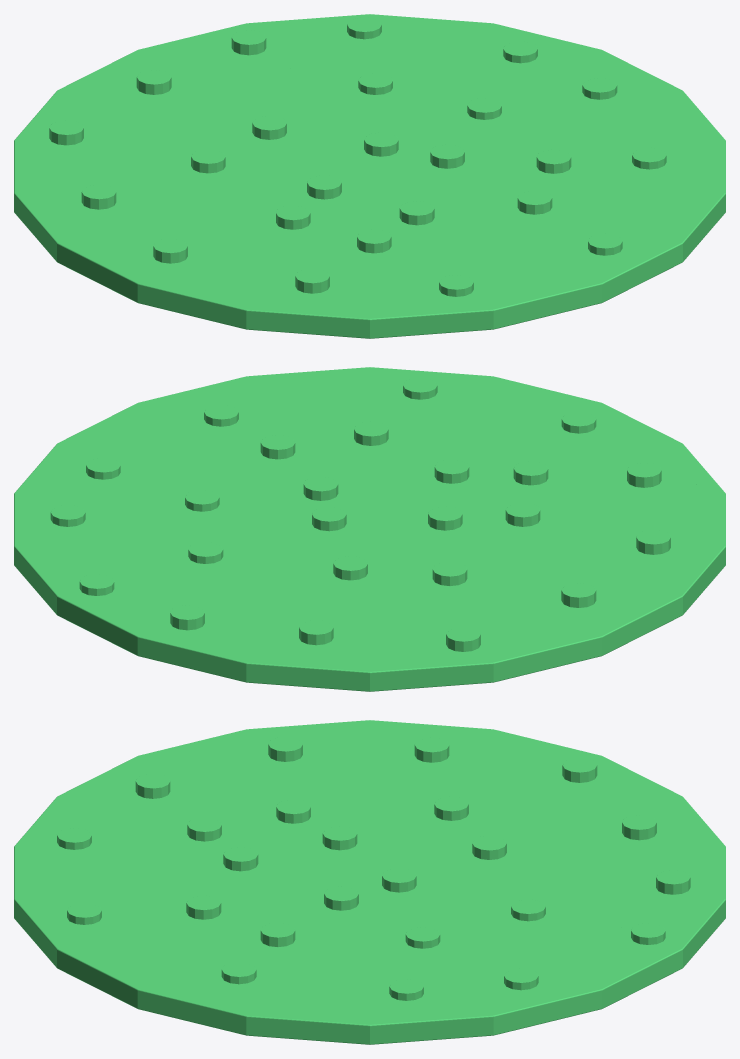
Rendered from TreeHouse_Ground_1.fbx.
3 views of the same model, one above another, from view 1: azimuth 30°, elevation 25°; view 2: azimuth 150°, elevation 25°; view 3: azimuth 270°, elevation 25° (orthographic).
Parts seen in each view (by area): view 1: Floor.012, Floor.015, Floor.017, Floor.006, Floor.007, Floor.013, Floor.016, Floor.005, Floor.003, Floor.009, Floor.004, Floor.002 (+8 smaller); view 2: Floor.012, Floor.015, Floor.017, Floor.007, Floor.013, Floor.006, Floor.016, Floor.019, Floor.014, Floor.018, Floor.009, Floor (+8 smaller); view 3: Floor.012, Floor.015, Floor.009, Floor.006, Floor.017, Floor.013, Floor.007, Floor.008, Floor.010, Floor.016, Floor.002, Floor.001 (+8 smaller).
Boxes of the visible parts, x1,y1,x2,y2 form: Floor.012: [318, 87, 571, 192]; Floor.015: [169, 140, 421, 245]; Floor.017: [96, 90, 316, 195]; Floor.006: [267, 193, 520, 284]; Floor.007: [423, 137, 643, 242]; Floor.013: [219, 48, 472, 139]; Floor.016: [57, 195, 266, 302]; Floor.005: [137, 245, 379, 329]; Floor.003: [380, 242, 602, 329]; Floor.009: [473, 50, 681, 137]; Floor.004: [246, 285, 493, 338]; Floor.002: [521, 191, 682, 302]; Floor.012: [157, 460, 397, 551]; Floor.015: [342, 487, 582, 578]; Floor.017: [290, 552, 529, 631]; Floor.007: [210, 407, 449, 486]; Floor.013: [132, 521, 341, 612]; Floor.006: [398, 426, 607, 517]; Floor.016: [531, 518, 725, 614]; Floor.019: [246, 613, 447, 691]; Floor.014: [132, 582, 288, 682]; Floor.018: [464, 578, 682, 655]; Floor.009: [15, 443, 208, 521]; Floor: [370, 627, 602, 691]; Floor.012: [289, 866, 479, 960]; Floor.015: [260, 784, 450, 878]; Floor.009: [329, 949, 493, 1044]; Floor.006: [122, 795, 289, 889]; Floor.017: [411, 784, 601, 866]; Floor.013: [450, 855, 617, 949]; Floor.007: [138, 878, 328, 960]; Floor.008: [183, 960, 369, 1044]; Floor.010: [480, 928, 617, 1035]; Floor.016: [247, 720, 410, 795]; Floor.002: [14, 890, 181, 967]; Floor.001: [57, 948, 246, 1035].
Bounding box in the file's own units: 1248 × 58.02 × 1230.
